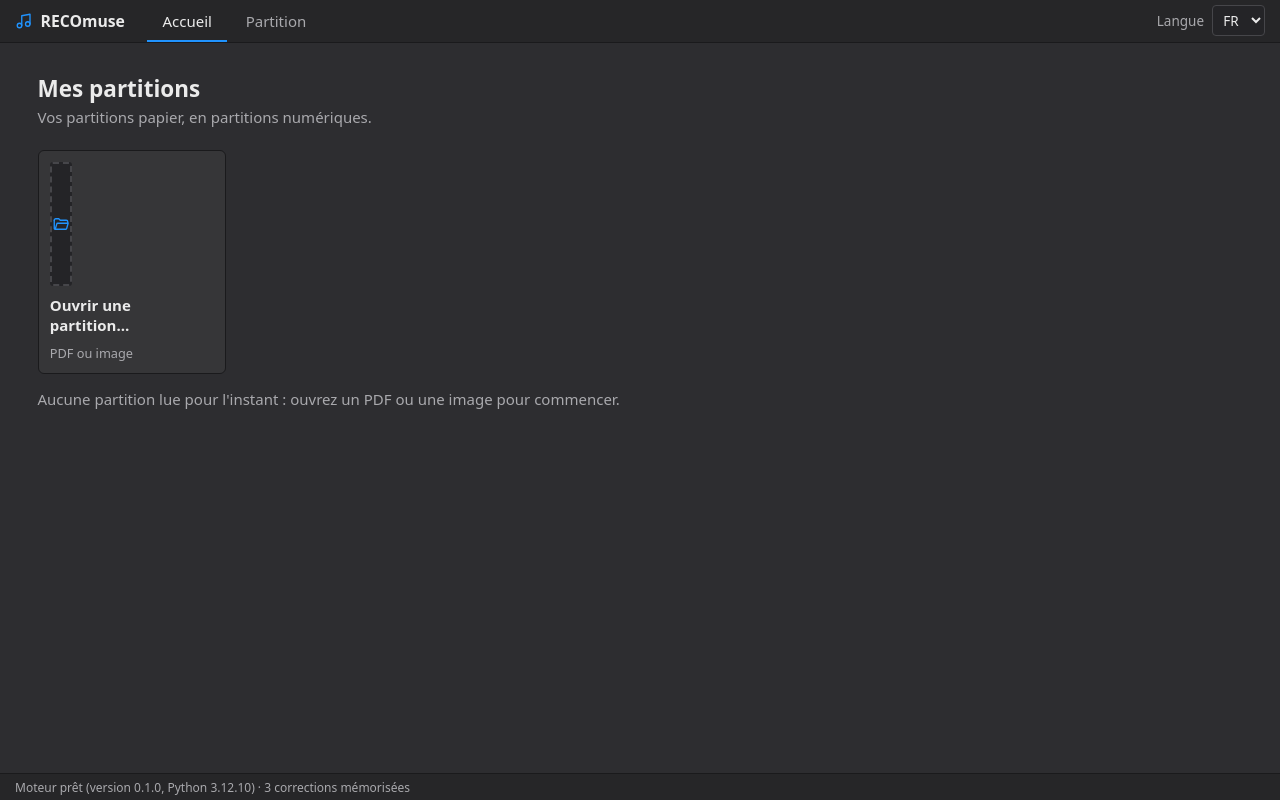
Test: App › s'ouvre sur l'accueil, puis montre les trois zones de travail dans l'onglet Partition
Expected: the heading "Mes partitions" is shown, [38,72,200,104]
Expected: the text "Aucune partition lue pour l'instant" is shown, [38,389,620,409]
Click the tab "Partition" at (276, 21), box [231,0,321,42]
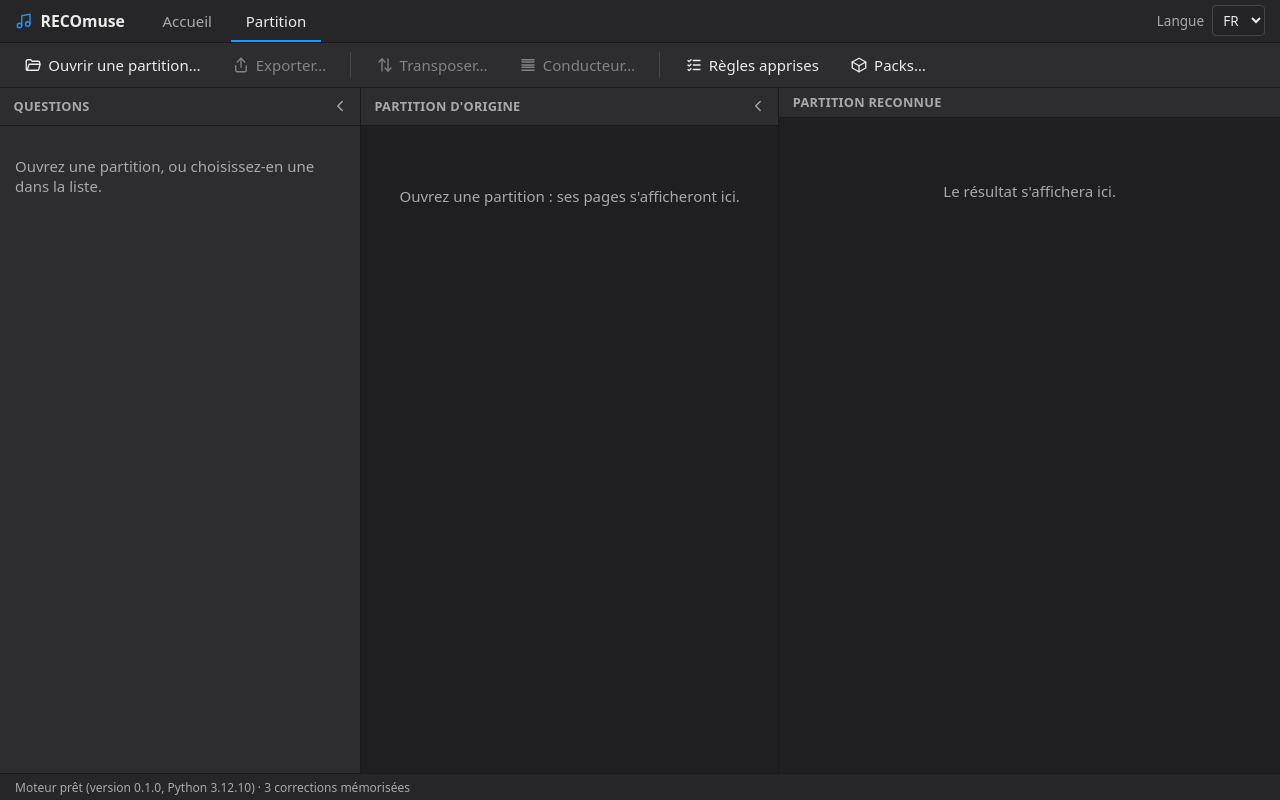
Expected: the heading "Partition d'origine" is shown, [374,97,520,115]
Expected: the heading "Questions" is shown, [14,97,90,115]
Expected: the heading "Partition reconnue" is shown, [793,93,942,111]
